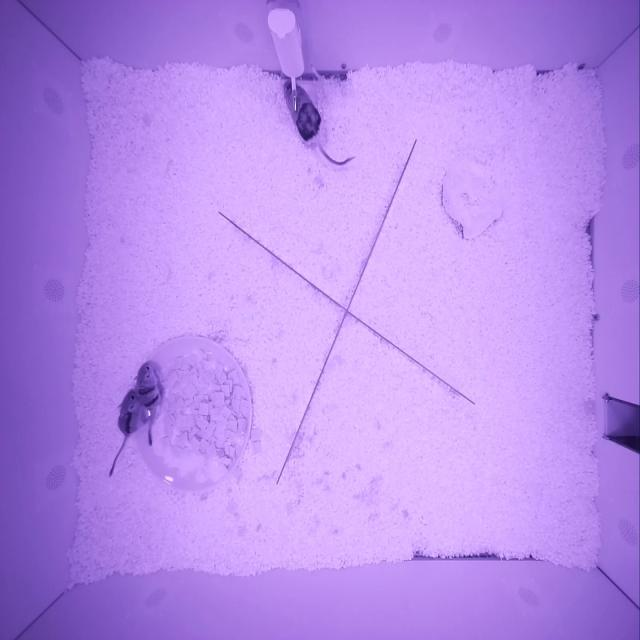adult_back: (283, 78, 323, 145)
pup_h_stripe: (133, 360, 161, 410)
pup_v_stripe: (116, 388, 148, 436)
